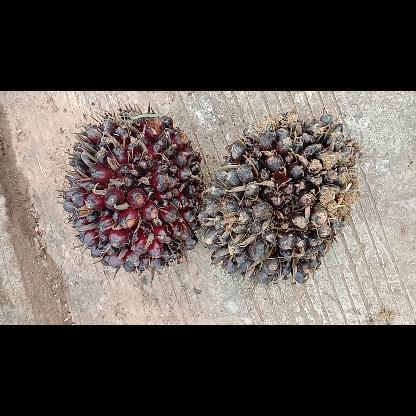TBS mentah: (197, 111, 364, 287), (58, 108, 204, 276)
